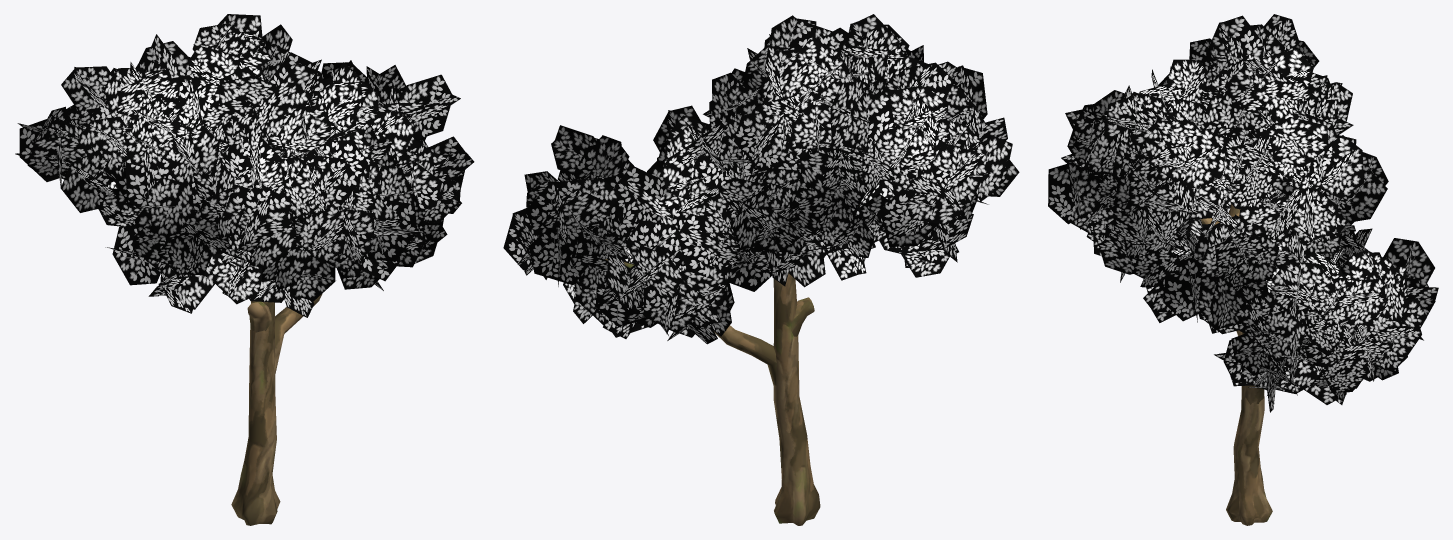
The model's file is P_OakTreeLarge3.obj.
3 views of the same model, side by side, from view 1: azimuth 30°, elevation 25°; view 2: azimuth 150°, elevation 25°; view 3: azimuth 270°, elevation 25° (orthographic). The views are drawn at different scales.
Bounding box in the file's own units: 33.05 × 34.56 × 27.11.
